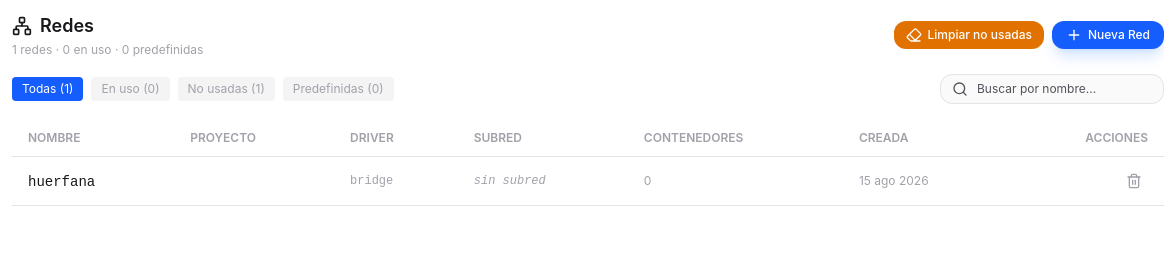
Test: estilo de los botones de accion › el buscador de redes filtra de verdad, no solo se parece
Type "no-existe" into the field named "Buscar redes".
click(1052, 89); type("no-existe")  # box [940, 74, 1164, 104]
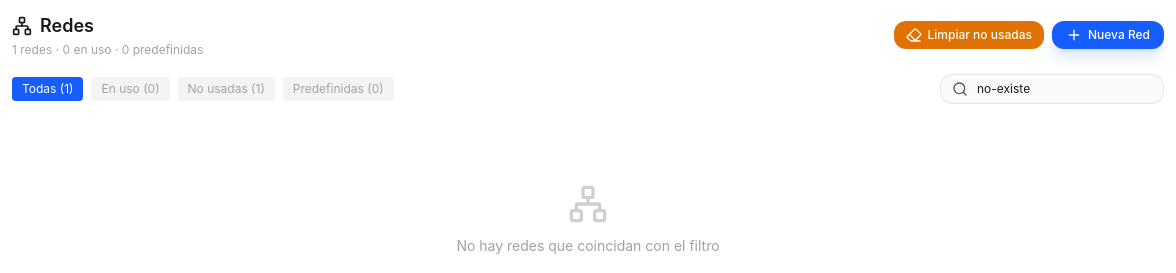
Check: the text "No hay redes que coincidan con el filtro" is shown, box [456, 236, 720, 256]
